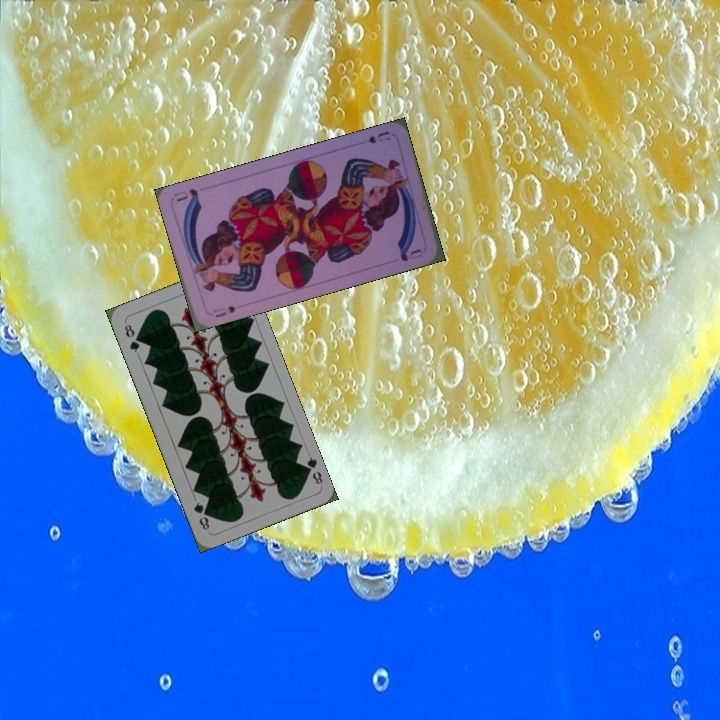G8: (299, 453, 325, 487), (120, 320, 142, 355)
SU: (364, 127, 393, 146), (209, 301, 238, 320)
